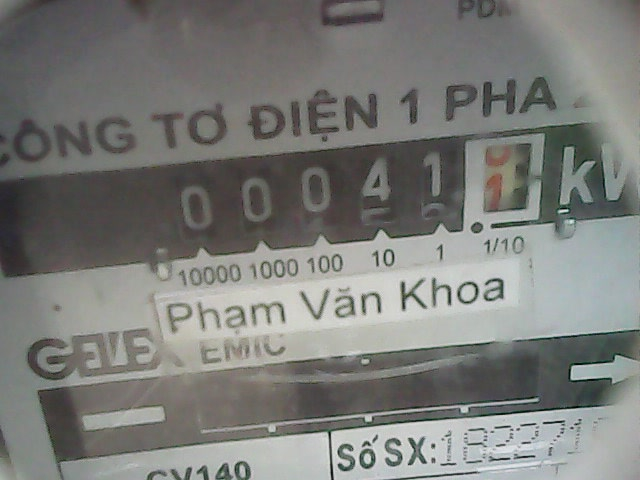phy_plate: (155, 127, 552, 247)
